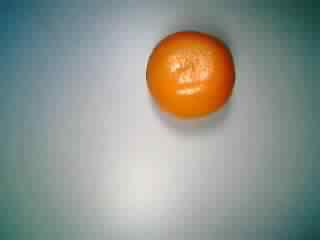orange: (138, 26, 236, 124)
